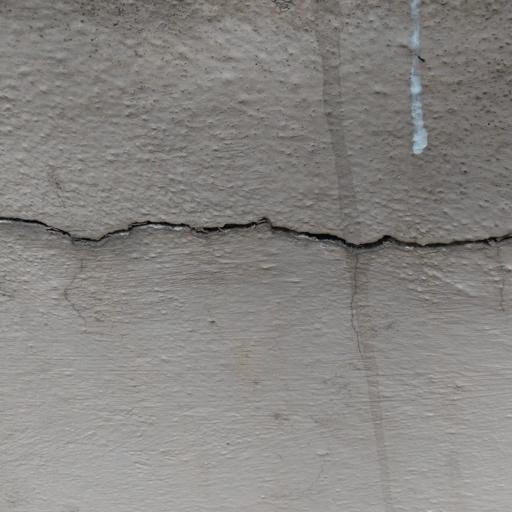major_crack: (0, 179, 512, 272)
